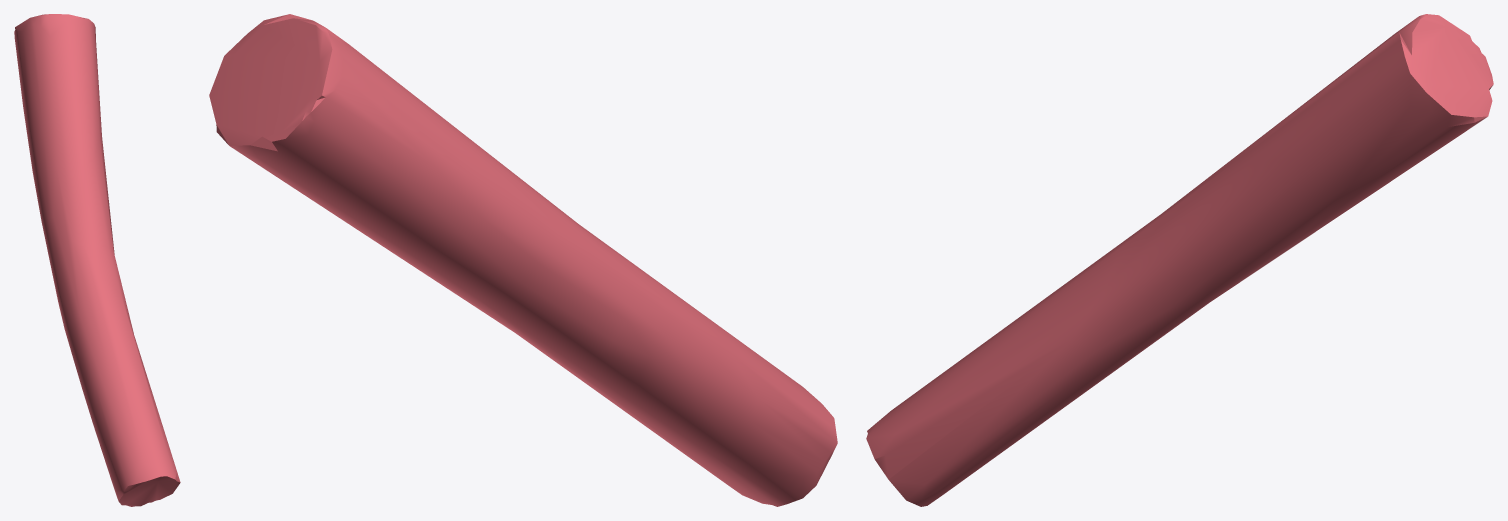
File: fma68723_fj3003.glb
3 renders of one model, left to right at view 1: azimuth 30°, elevation 25°; view 2: azimuth 150°, elevation 25°; view 3: azimuth 270°, elevation 25°, orthographic. The views are drawn at different scales.
Visible parts, largest first — view 1: FMA68723_FJ3003; view 2: FMA68723_FJ3003; view 3: FMA68723_FJ3003.
Boxes of the visible parts, x1,y1,x2,y2 form: FMA68723_FJ3003: [14, 14, 180, 506]; FMA68723_FJ3003: [209, 14, 837, 506]; FMA68723_FJ3003: [866, 14, 1493, 506].
Bounding box in the file's own units: 0.00495 × 0.0113 × 0.012.
